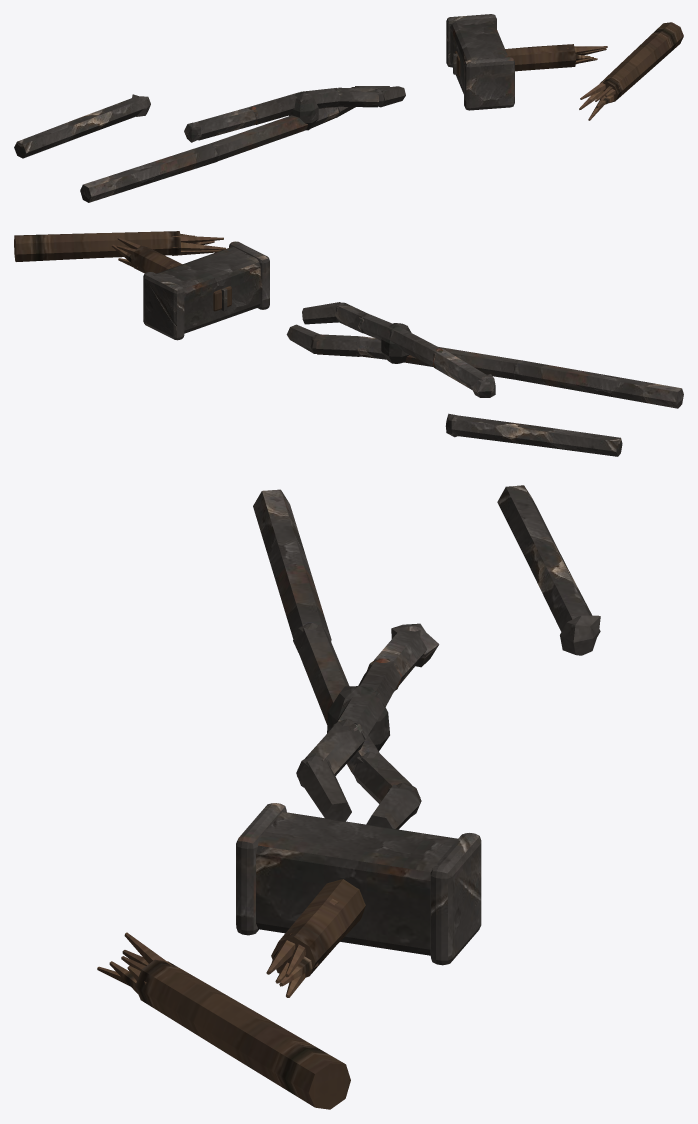
Rendered from junk_tongs_hammer.glb.
3 renders of one model, top to bottom at view 1: azimuth 30°, elevation 25°; view 2: azimuth 150°, elevation 25°; view 3: azimuth 270°, elevation 25°, orthographic. The views are drawn at different scales.
Visible parts, largest first — view 1: model; view 2: model; view 3: model.
Boxes of the visible parts, bbox=[...] form: model: bbox=[14, 14, 683, 202]; model: bbox=[14, 231, 683, 456]; model: bbox=[97, 485, 600, 1109].
Size of the model in its own units: 0.9727 by 0.0752 by 0.3455.
Materials: 7 (7 with a texture image).
